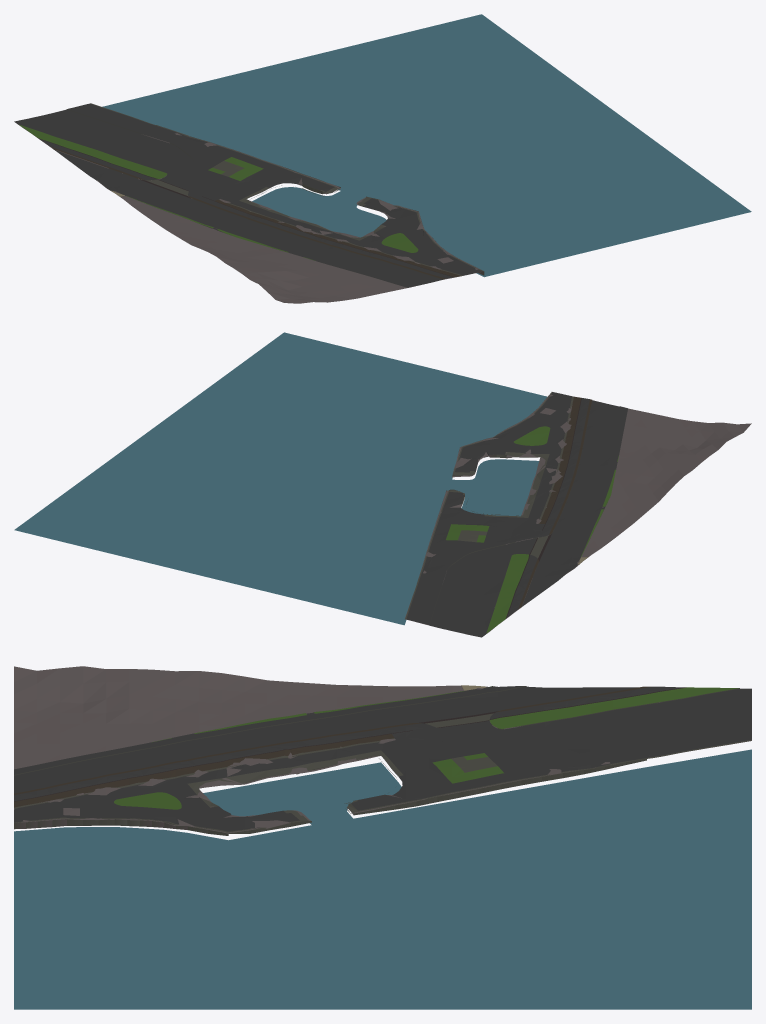
3 views of the same model, one above another, from view 1: azimuth 30°, elevation 25°; view 2: azimuth 150°, elevation 25°; view 3: azimuth 270°, elevation 25° (orthographic). The views are drawn at different scales.
Visible parts, largest first — view 1: c_p04_p09; view 2: c_p04_p09; view 3: c_p04_p09.
Boxes of the visible parts, x1=… form: c_p04_p09: x1=14, y1=14, x2=751, y2=303; c_p04_p09: x1=14, y1=332, x2=751, y2=637; c_p04_p09: x1=14, y1=666, x2=751, y2=1009.
Bounding box in the file's own units: 128 × 6.08 × 128.
